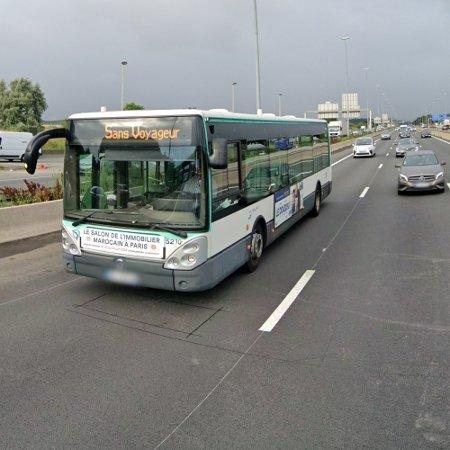buses: (23, 109, 333, 292)
